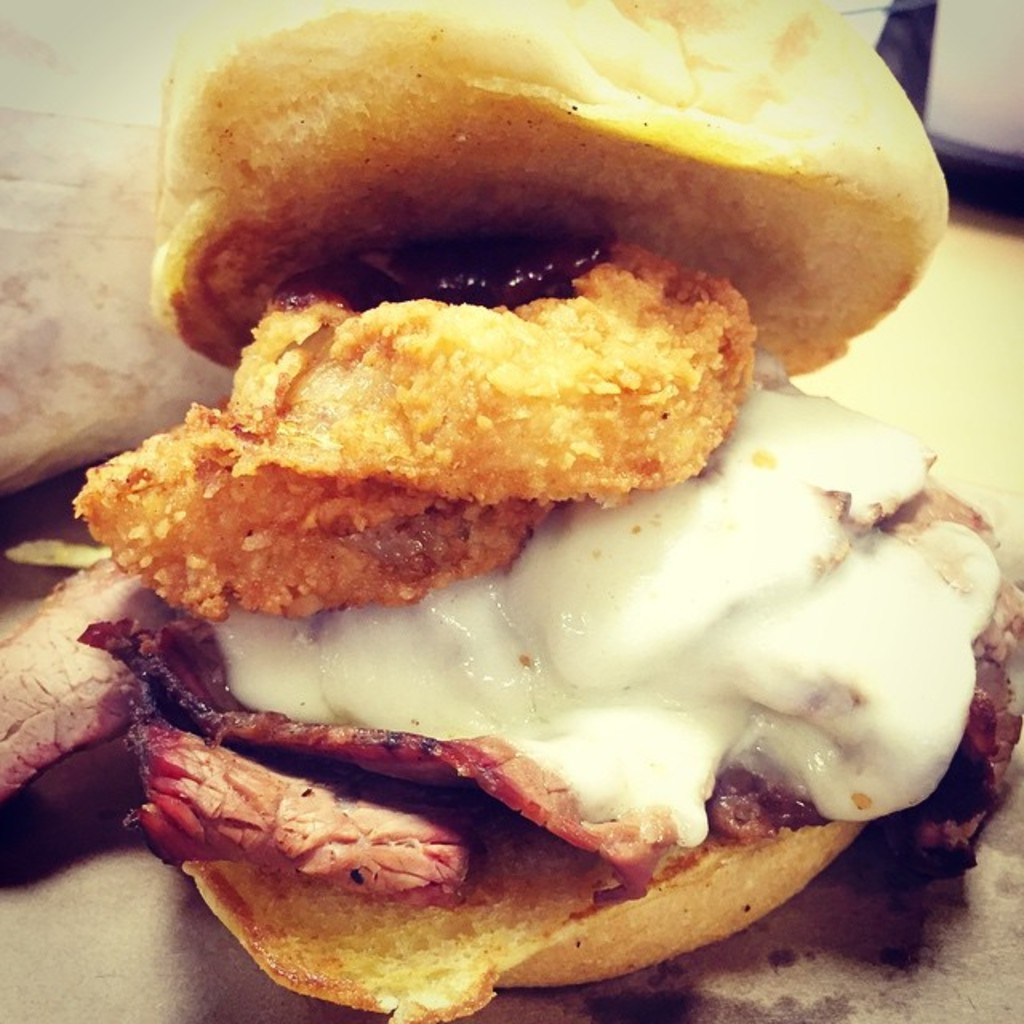Hamburger: (76, 0, 1022, 1022)
